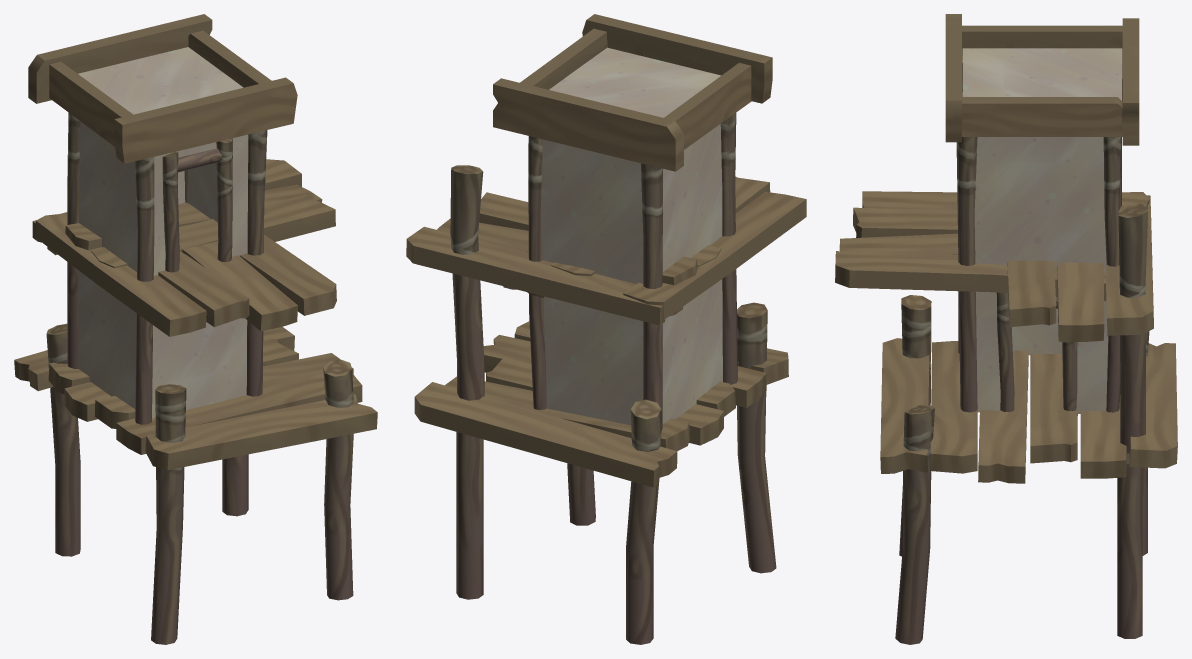
Rendered from House01_mesh.fbx.
The picture shows the model from 3 angles, left to right: view 1: azimuth 30°, elevation 25°; view 2: azimuth 150°, elevation 25°; view 3: azimuth 270°, elevation 25°; orthographic projection. The views are drawn at different scales.
Visible parts, largest first — view 1: House01_mesh; view 2: House01_mesh; view 3: House01_mesh.
Part boxes in pixels (left/top/right/bottom): House01_mesh: left=14, top=14, right=377, bottom=644; House01_mesh: left=406, top=14, right=806, bottom=644; House01_mesh: left=835, top=14, right=1177, bottom=644.
Bounding box in the file's own units: 3.71 × 7 × 4.13.
